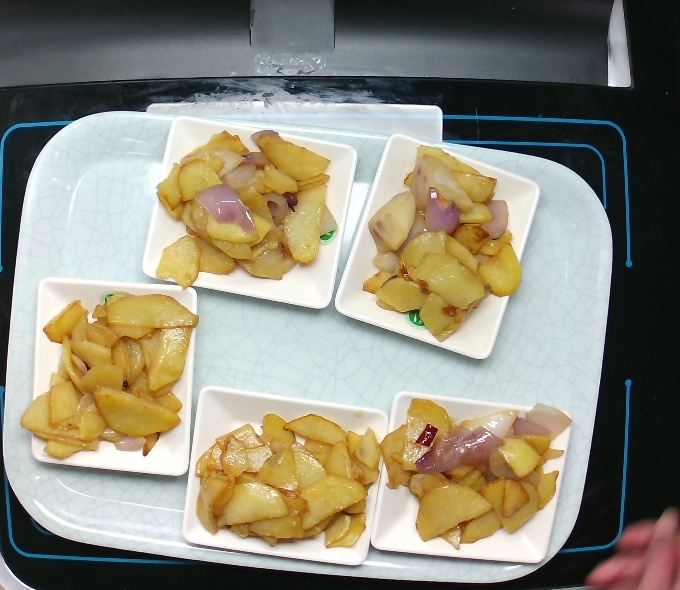wcq-TuDouPian: (21, 285, 196, 468), (150, 129, 342, 294), (360, 147, 523, 341), (380, 394, 563, 544), (192, 412, 383, 551)
